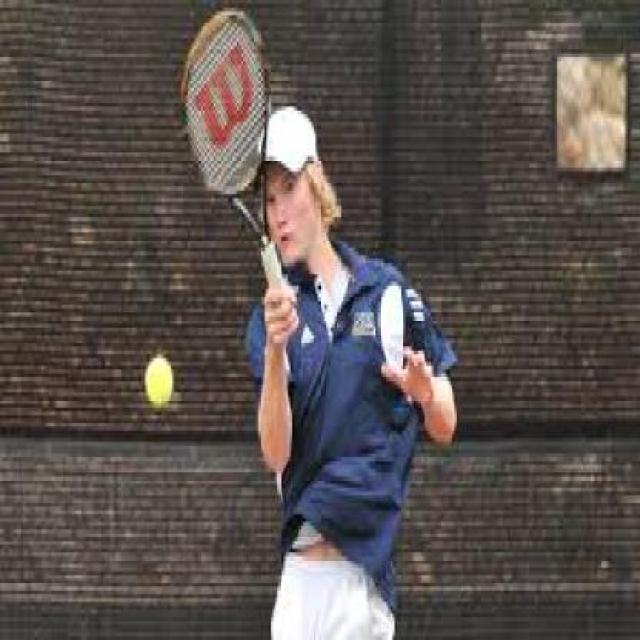Tennis_Ball: (148, 352, 174, 398)
